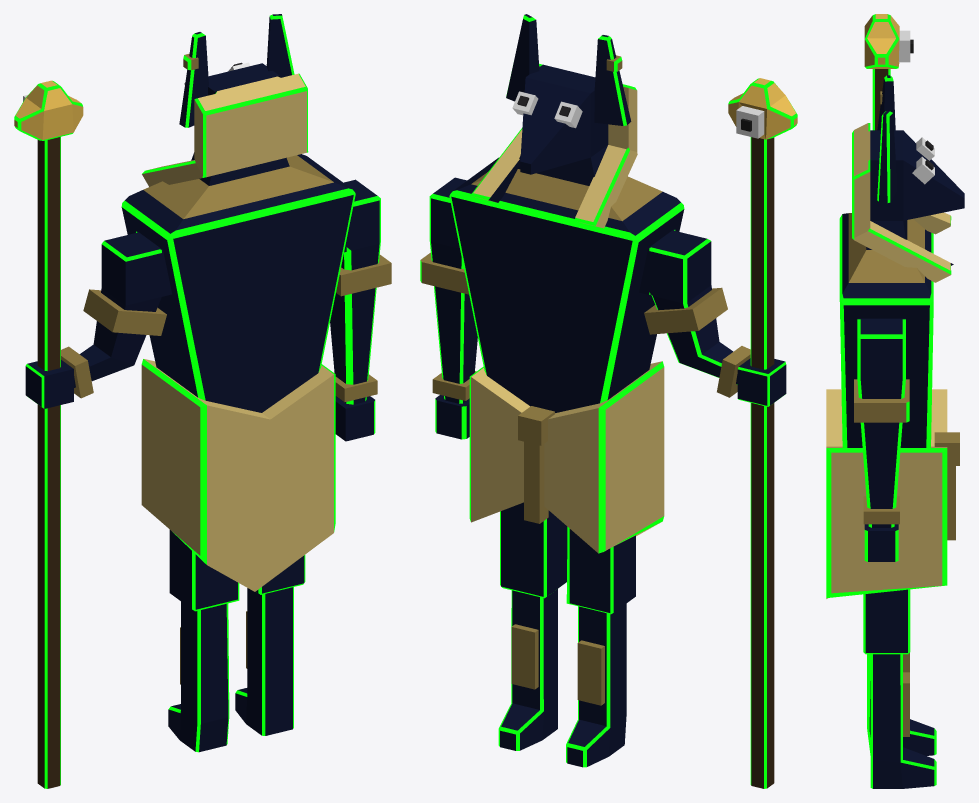
The model's file is EG_LigthReceptor.fbx.
3 views of the same model, side by side, from view 1: azimuth 30°, elevation 25°; view 2: azimuth 150°, elevation 25°; view 3: azimuth 270°, elevation 25° (orthographic). The views are drawn at different scales.
Parts seen in each view (by area): view 1: Anubis; view 2: Anubis; view 3: Anubis.
Boxes of the visible parts, box(x1,y1,x2,y2) form: Anubis: box(14, 14, 391, 788); Anubis: box(420, 14, 797, 788); Anubis: box(826, 14, 964, 788).
Size of the model in its own units: 110 by 207 by 38.42.
